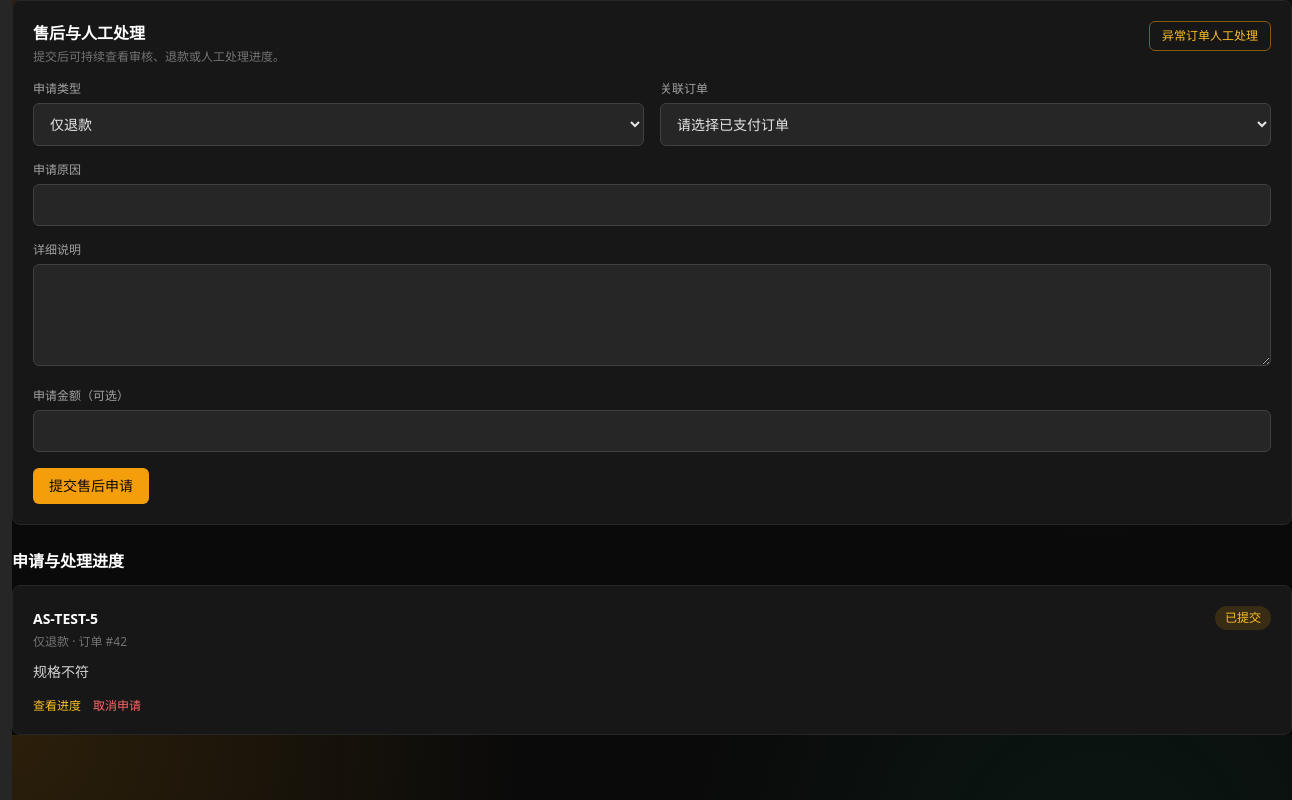
it: AfterSalesPanel › loads status history and version-cancels a submitted request
Click the button "查看进度": (57, 706) [33,698,81,714]
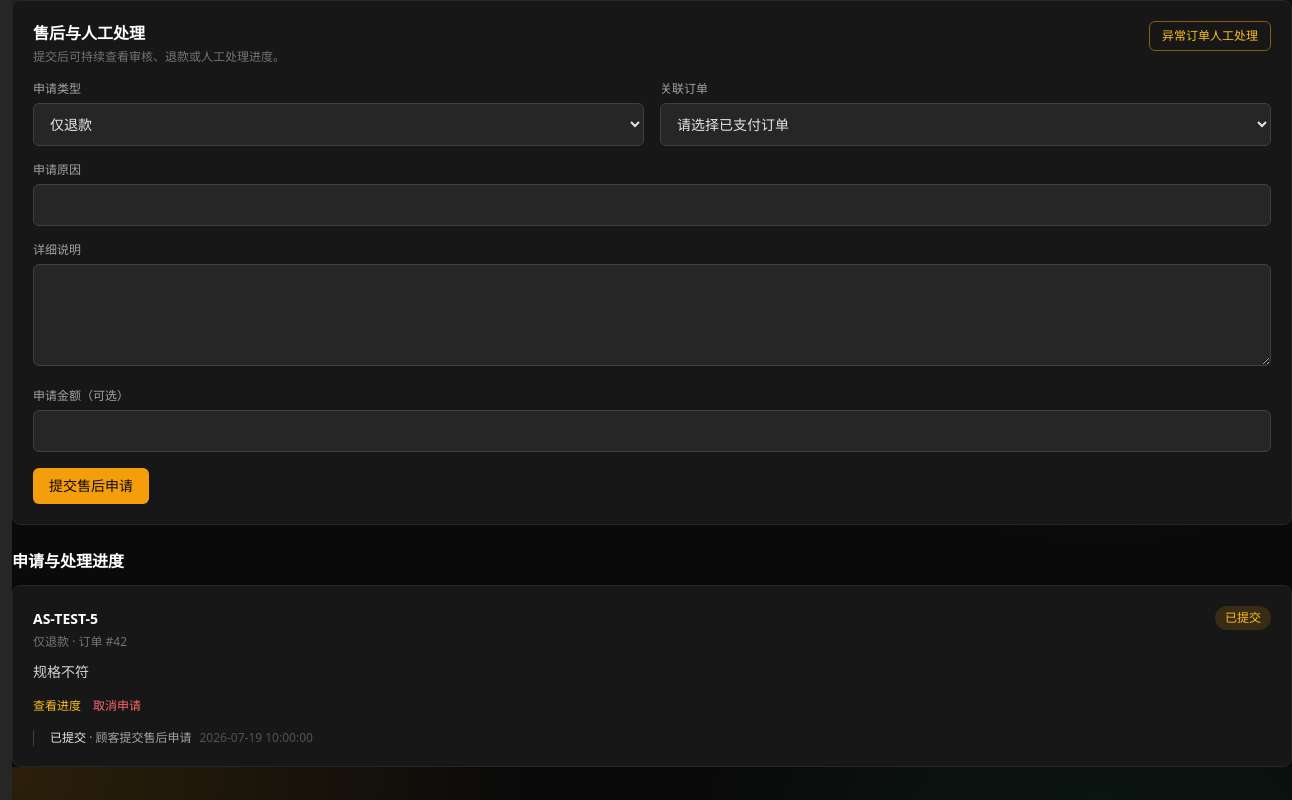
Expected: the list item "已提交 · 顾客提交售后申请2026-07-19 10:00:00" is shown, [50,729,313,746]
Click the button "取消申请": (117, 706) [93,698,141,714]
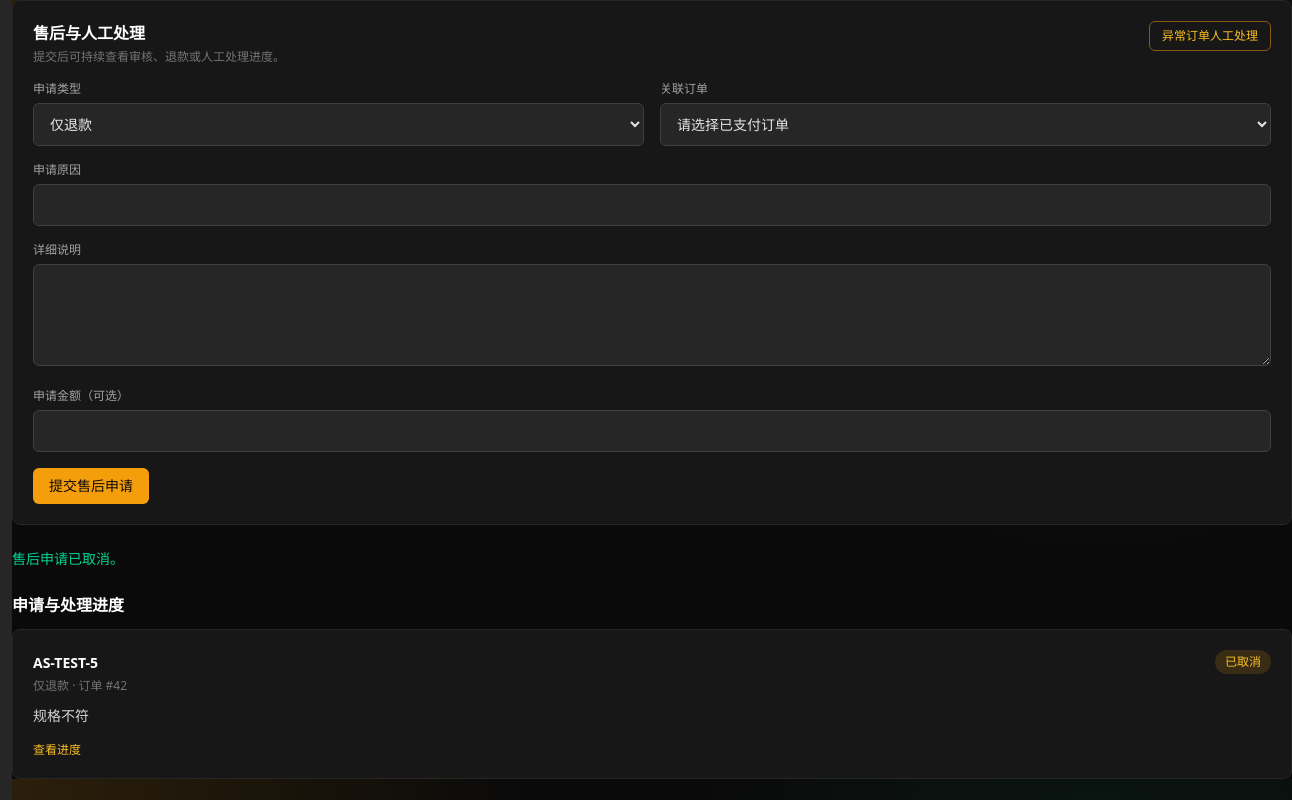
Expected: the message shows "售后申请已取消", [12,549,124,568]
